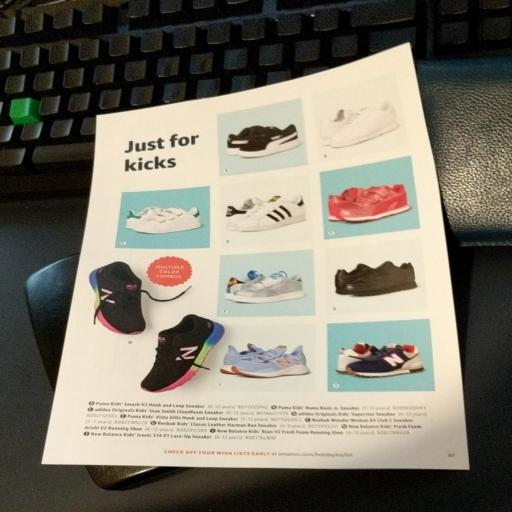paper: (43, 21, 508, 478)
